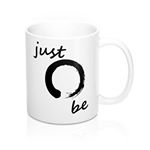cups: (23, 17, 135, 127)
